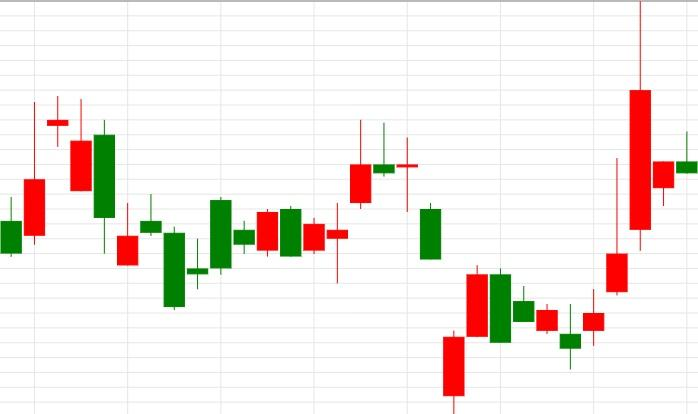bearish_engulfing_fall: (164, 197, 303, 311)
three_white_soldiers_rise: (465, 0, 651, 369)
